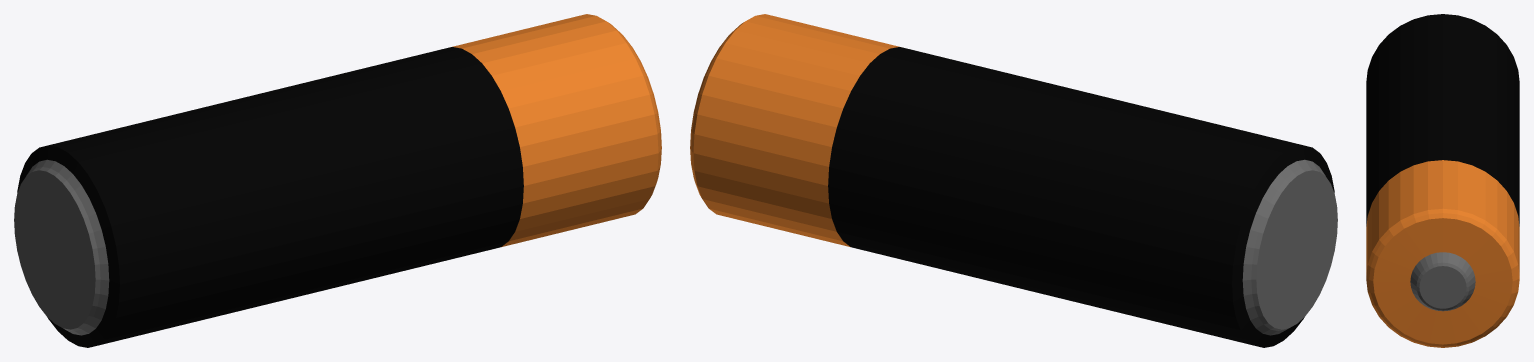
Rendered from battery.fbx.
3 renders of one model, left to right at view 1: azimuth 30°, elevation 25°; view 2: azimuth 150°, elevation 25°; view 3: azimuth 270°, elevation 25°, orthographic. The views are drawn at different scales.
Parts seen in each view (by area): view 1: Battery; view 2: Battery; view 3: Battery.
Boxes of the visible parts, x1,y1,x2,y2 form: Battery: (14,14,661,347); Battery: (690,14,1337,347); Battery: (1366,14,1519,347).
Bounding box in the file's own units: 4 × 12.86 × 4.
